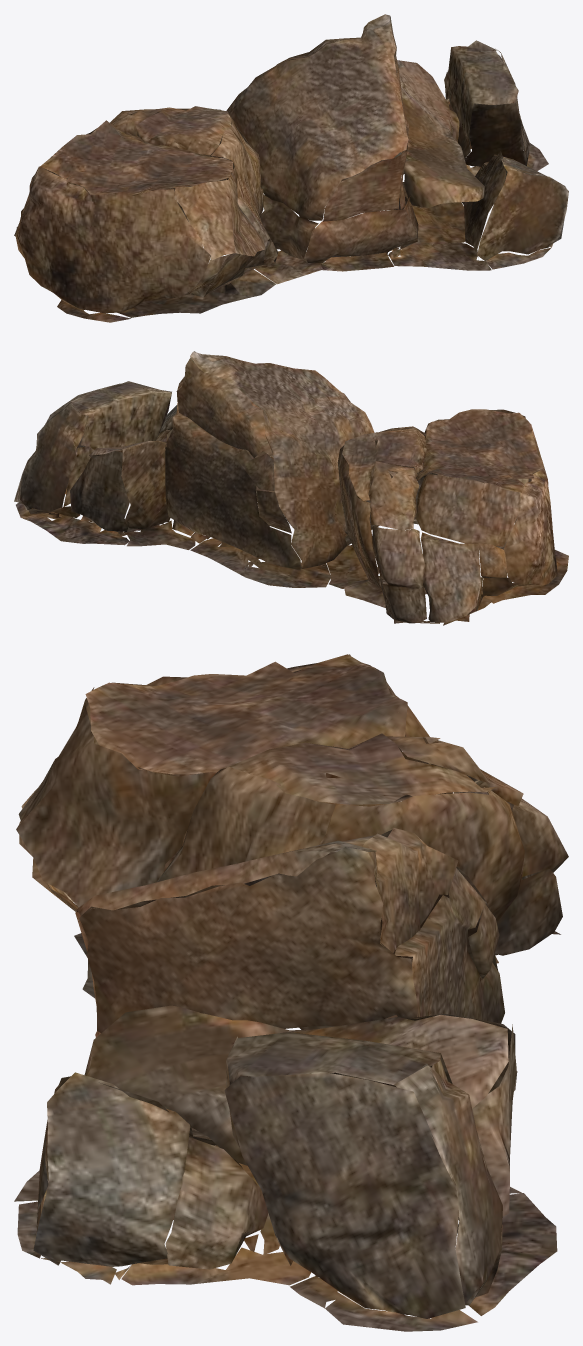
The model's file is namaqualand_boulder_02.glb.
3 views of the same model, one above another, from view 1: azimuth 30°, elevation 25°; view 2: azimuth 150°, elevation 25°; view 3: azimuth 270°, elevation 25° (orthographic). The views are drawn at different scales.
Parts seen in each view (by area): view 1: boulder_02; view 2: boulder_02; view 3: boulder_02.
Part boxes in pixels (left/top/right/bottom): boulder_02: left=14, top=14, right=568, bottom=322; boulder_02: left=14, top=351, right=568, bottom=625; boulder_02: left=14, top=654, right=568, bottom=1331.
Size of the model in its own units: 2.52 by 0.8832 by 1.24.
1 material, 1 textured.
